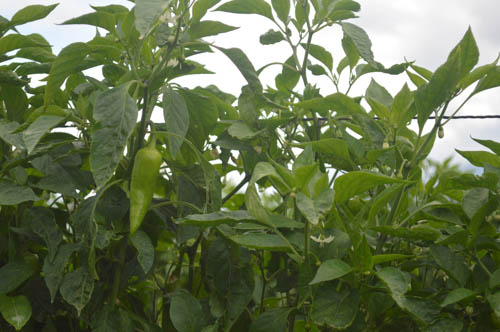ChiliPepper: (126, 148, 163, 234)
